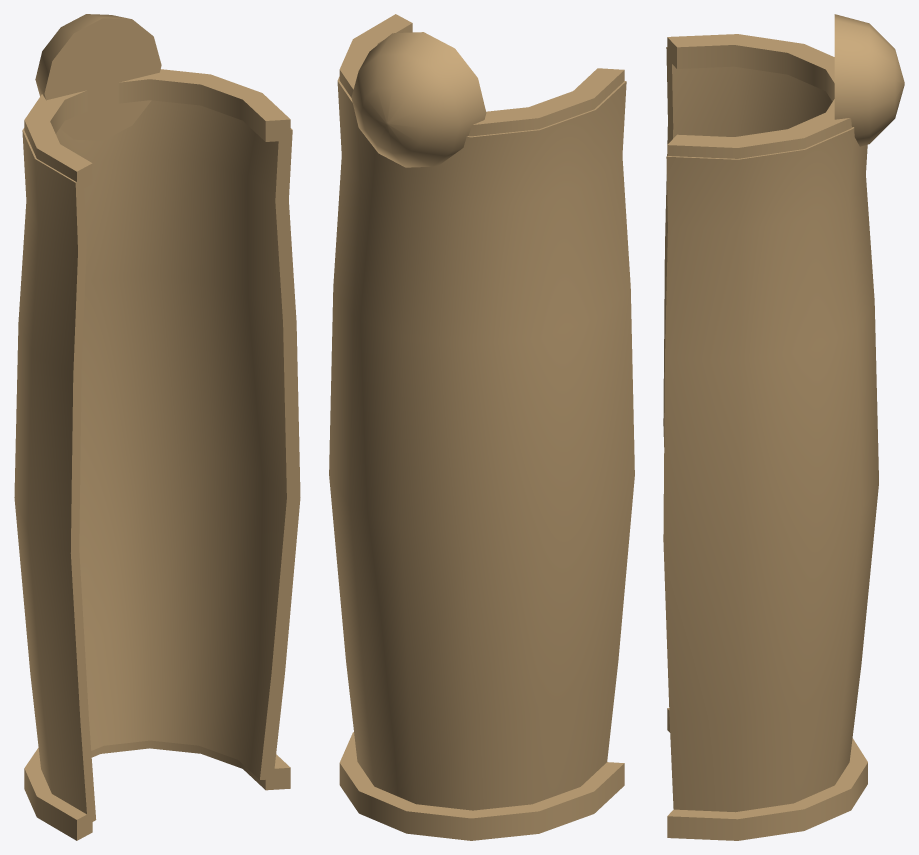
The model's file is greave_l.glb.
The picture shows the model from 3 angles, left to right: view 1: azimuth 30°, elevation 25°; view 2: azimuth 150°, elevation 25°; view 3: azimuth 270°, elevation 25°; orthographic projection. The views are drawn at different scales.
Parts seen in each view (by area): view 1: OUT; view 2: OUT; view 3: OUT.
Boxes of the visible parts, box(x1,y1,x2,y2) form: OUT: box(14, 14, 300, 840); OUT: box(329, 14, 634, 840); OUT: box(663, 14, 904, 840).
Size of the model in its own units: 0.1448 by 0.421 by 0.1205.
